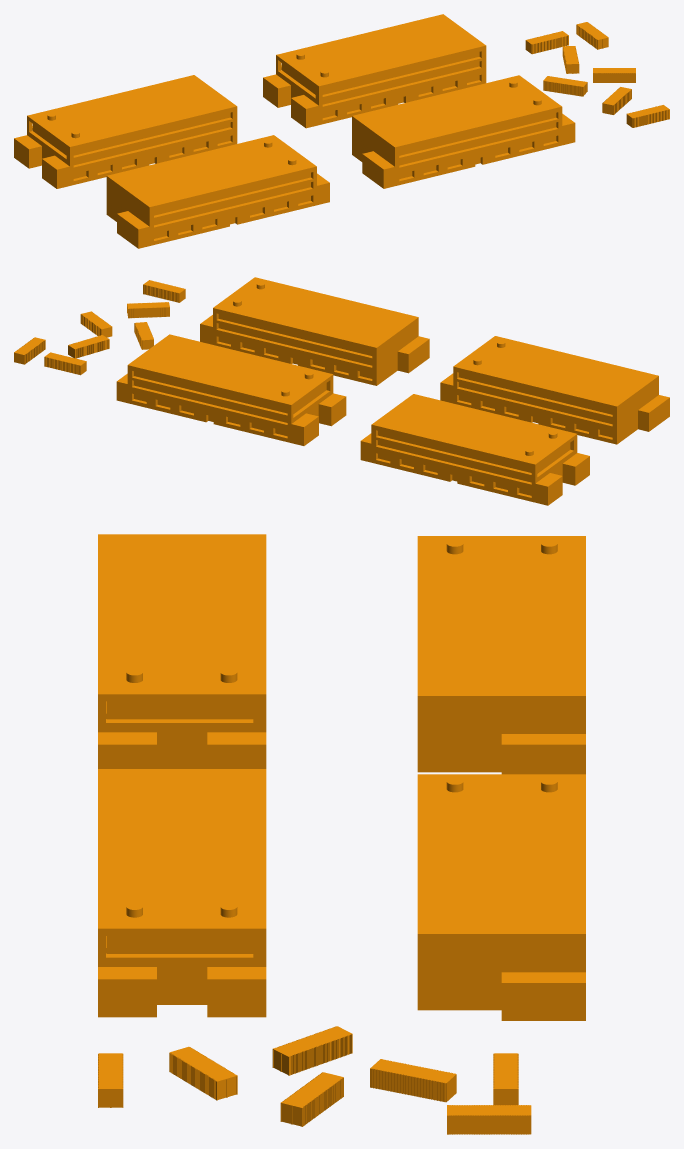
File: env_ass.dae
The picture shows the model from 3 angles, top to bottom: view 1: azimuth 30°, elevation 25°; view 2: azimuth 150°, elevation 25°; view 3: azimuth 270°, elevation 25°; orthographic projection. The views are drawn at different scales.
Visible parts, largest first — view 1: 611a33be35d2c963e1b3c19c (×11); view 2: 611a33be35d2c963e1b3c19c (×11); view 3: 611a33be35d2c963e1b3c19c (×11).
Part boxes in pixels (bbox=[...]): 611a33be35d2c963e1b3c19c (×11): bbox=[14, 14, 669, 248]; 611a33be35d2c963e1b3c19c (×11): bbox=[14, 277, 669, 505]; 611a33be35d2c963e1b3c19c (×11): bbox=[98, 534, 585, 1134].
Size of the model in its own units: 150 by 58 by 11.25.
